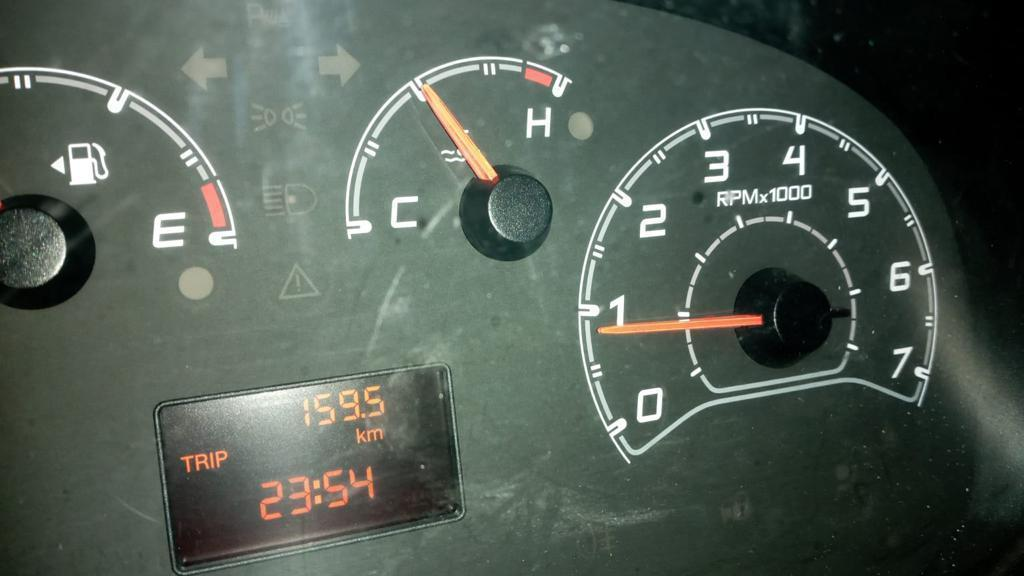,: (359, 411, 365, 420)
1: (300, 395, 312, 428)
2: (257, 477, 282, 521)
3: (286, 474, 312, 517)
4: (349, 463, 376, 501)
5: (322, 466, 348, 509), (313, 390, 335, 427), (363, 382, 385, 418)
9: (337, 387, 360, 422)
X: (312, 476, 322, 507), (179, 453, 193, 474), (214, 449, 228, 469), (193, 453, 208, 471), (367, 427, 384, 441), (355, 424, 366, 445), (207, 450, 213, 468)
odometer: (151, 359, 468, 576)
